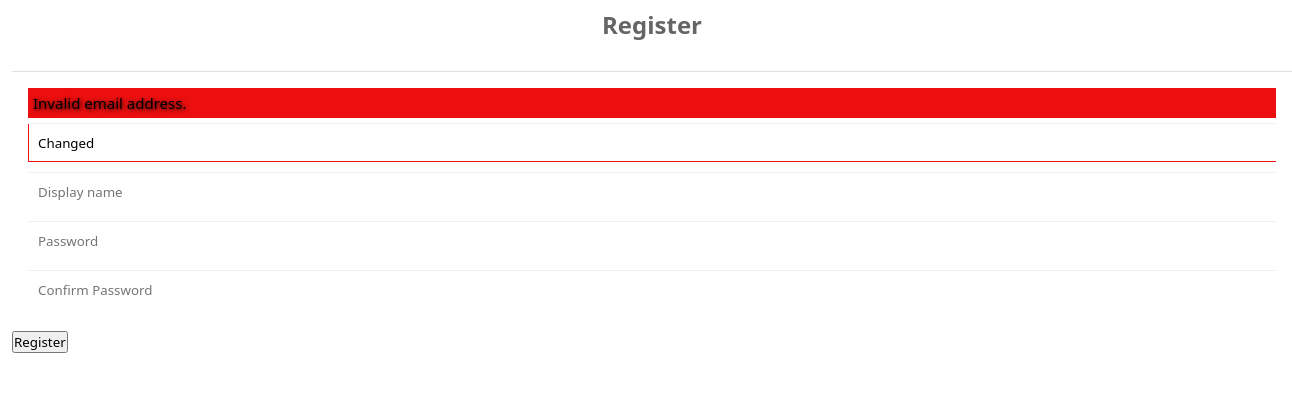
Test: <Register /> › should show danger on change for invalid username
The image size is (1292, 400).
Type "<invalidUserName>" into the field with placeholder "Display name" at (652, 192), box [28, 172, 1276, 211]
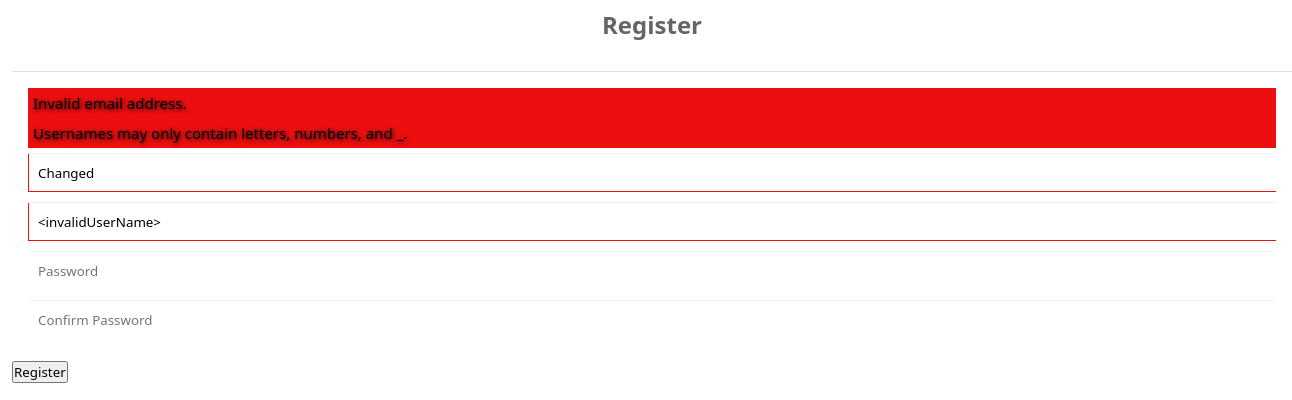
Now the text with class "error" reads "Usernames may only contain letters, numbers, and _.", box [33, 123, 407, 143]
